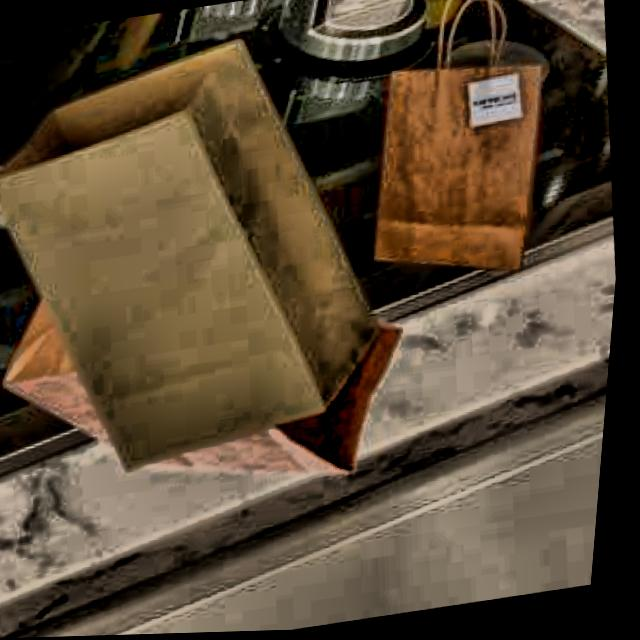Paper-bag: (0, 27, 416, 496), (0, 206, 425, 541), (313, 0, 588, 311)
